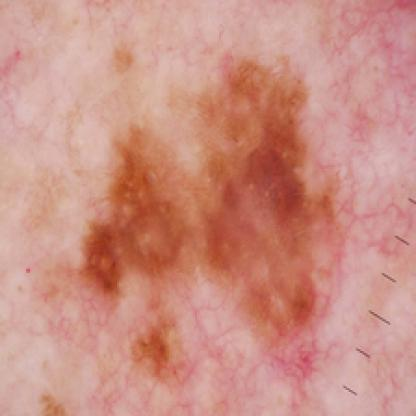benign: (74, 73, 346, 323)
